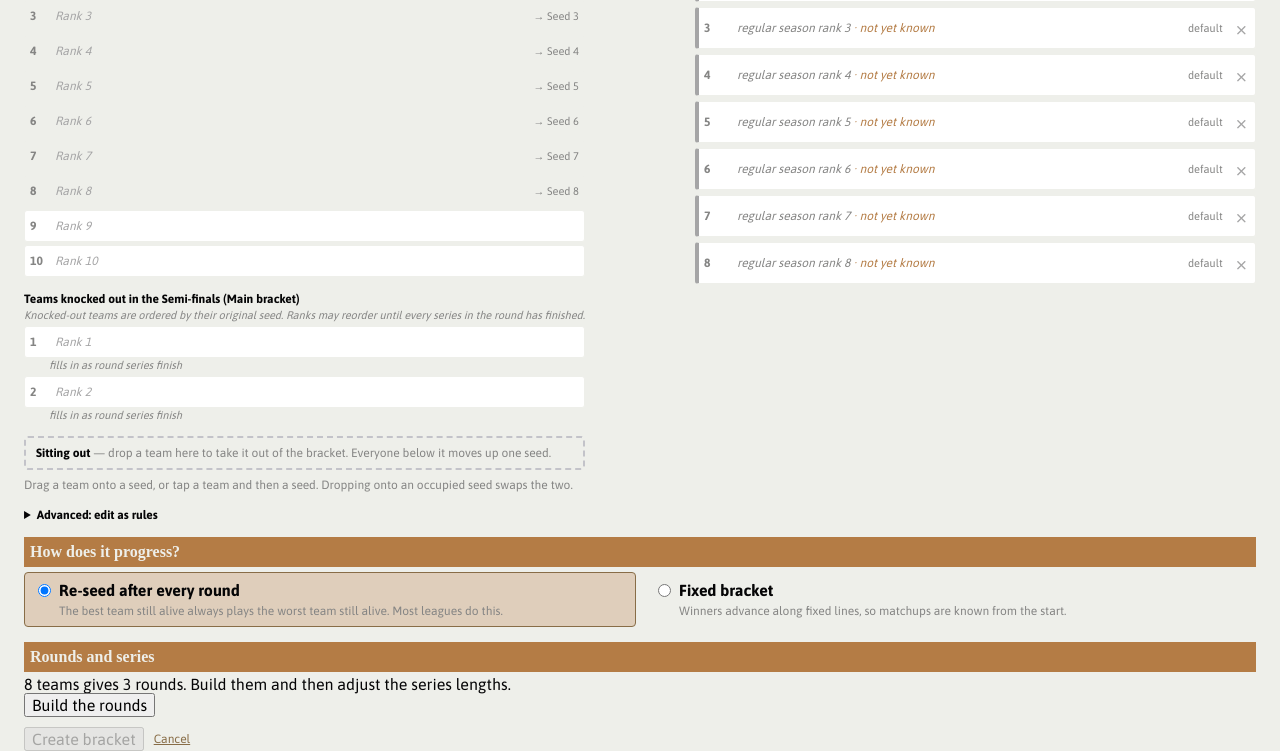
it: TournamentBracketForm (creating) › builds the rounds on request and names them from the final backwards
(page scrolled)
Click the button "Build the rounds".
click(90, 705)  # box [24,693,155,717]
(page scrolled)
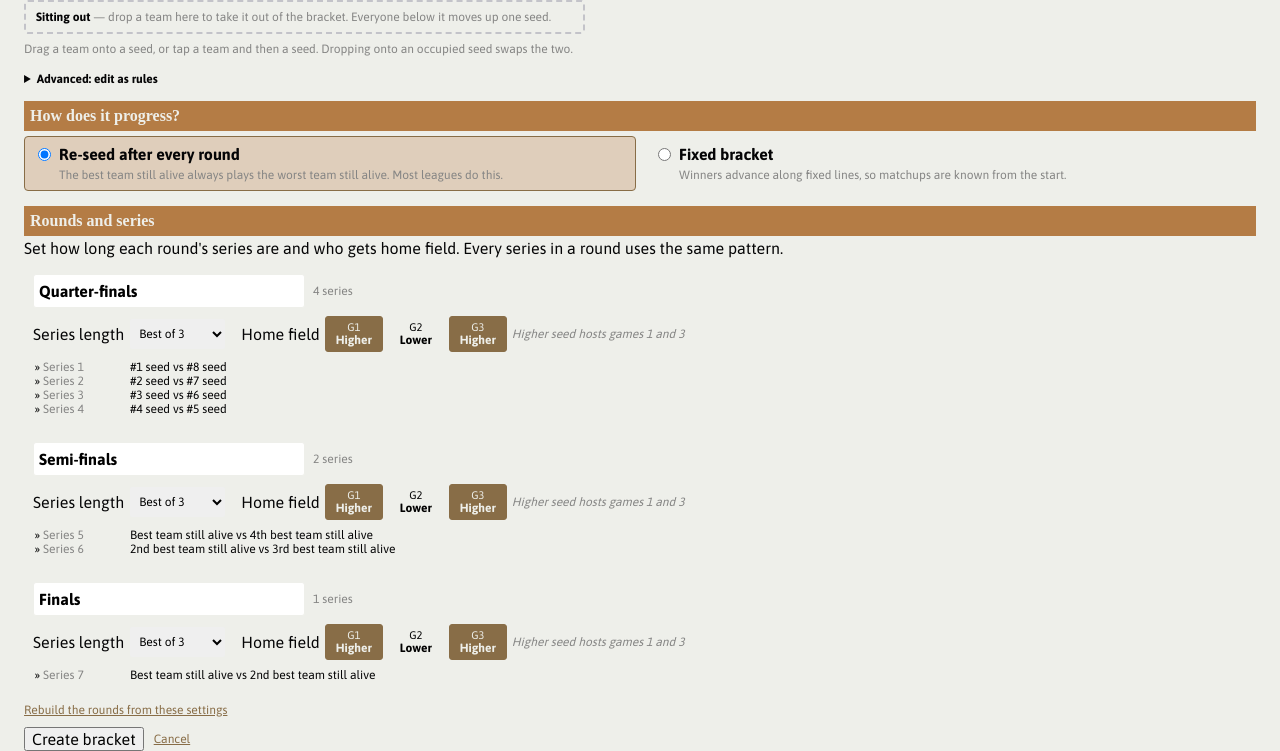
Expected: the field showing "Quarter-finals" is shown, [33,274,305,308]
Expected: the field showing "Semi-finals" is shown, [33,442,305,476]
Expected: the field showing "Finals" is shown, [33,582,305,616]
